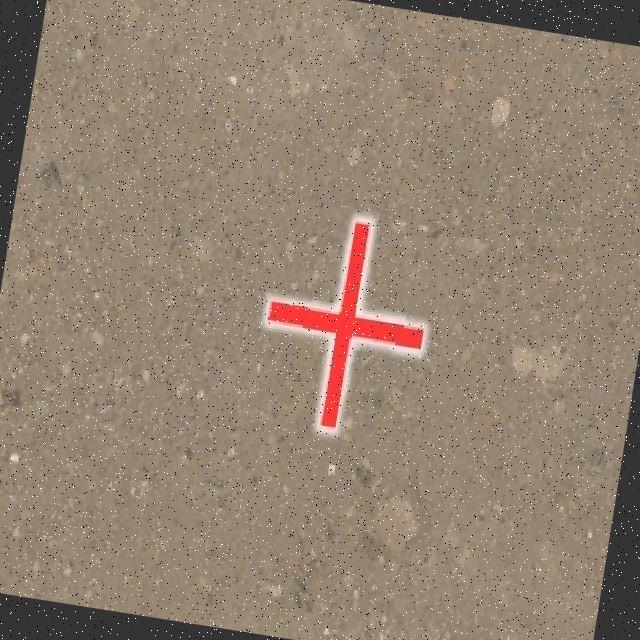x_marker: (251, 208, 438, 440)
